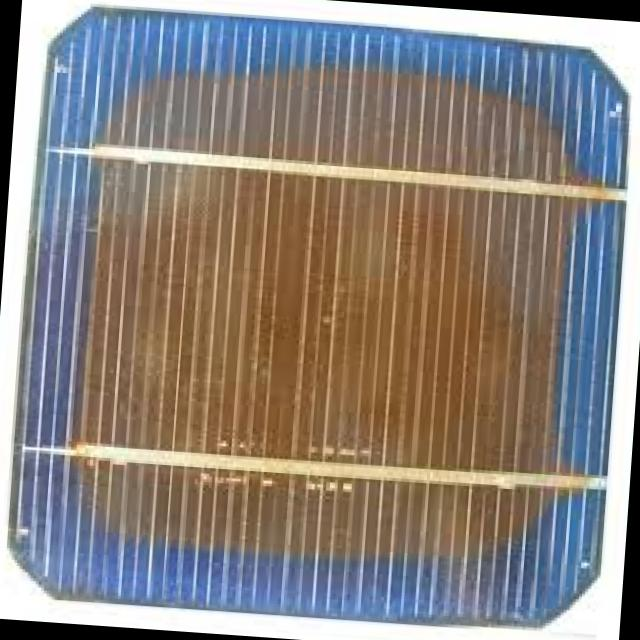faulty: (48, 52, 610, 567)
